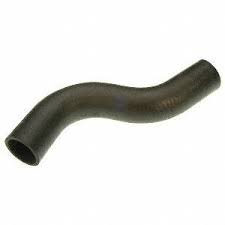radiator_hose: (7, 59, 220, 165)
